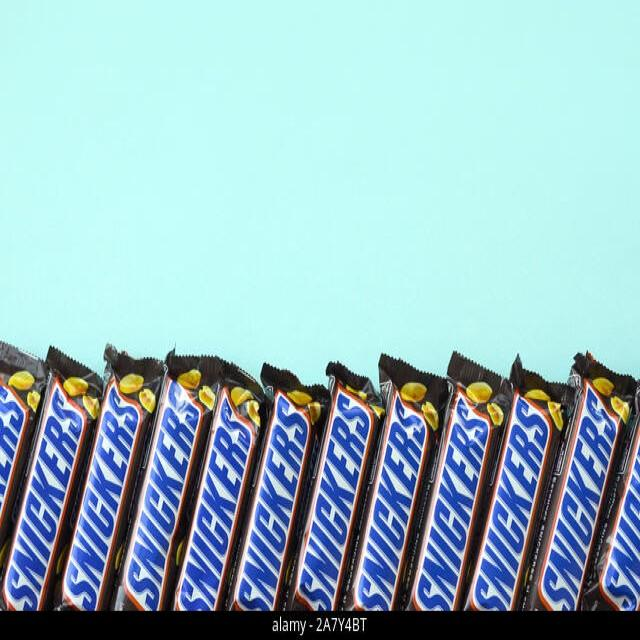snickers_chocolate: (58, 372, 137, 608), (490, 366, 558, 612), (581, 358, 640, 614), (380, 368, 440, 614), (17, 357, 66, 620), (550, 368, 600, 624), (316, 372, 362, 633), (254, 367, 304, 600), (144, 380, 188, 610), (440, 370, 477, 610), (190, 364, 223, 624)
